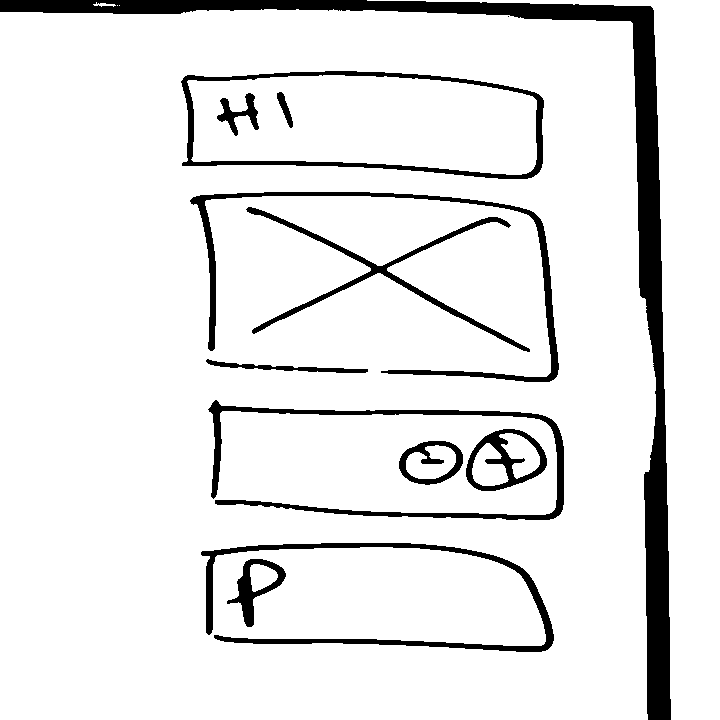heading1: (177, 68, 549, 184)
inline stepper bar: (203, 399, 569, 527)
paragraph: (198, 540, 562, 658)
picture: (184, 188, 569, 387)
